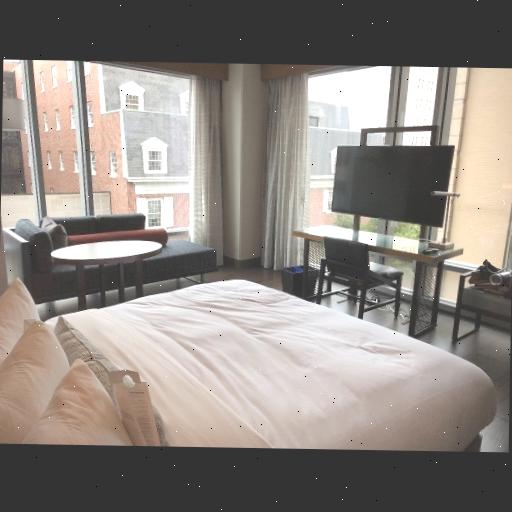chair: (323, 239, 405, 326)
clean_bed: (0, 274, 500, 451)
organised_pillow: (0, 276, 170, 447)
organized table: (293, 222, 464, 340), (46, 236, 168, 306)
